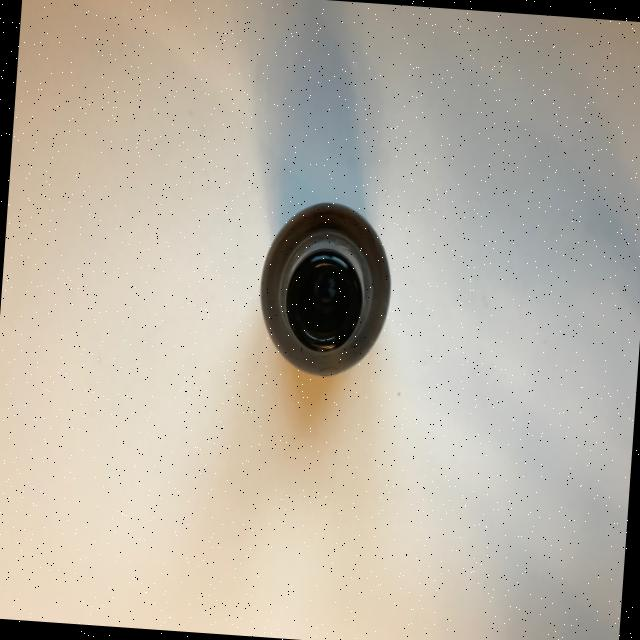glass: (253, 196, 396, 381)
